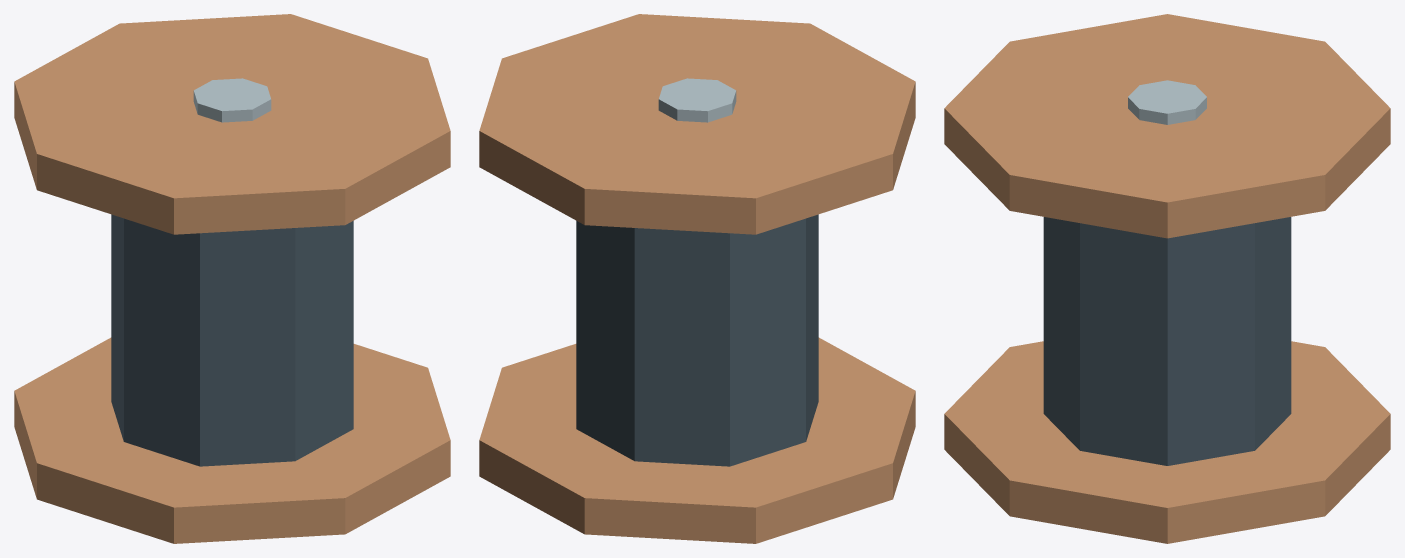
File: cable-shipping-reel.glb
3 views of the same model, side by side, from view 1: azimuth 30°, elevation 25°; view 2: azimuth 150°, elevation 25°; view 3: azimuth 270°, elevation 25° (orthographic).
Parts seen in each view (by area): view 1: copper, dark, steel; view 2: copper, dark, steel; view 3: copper, dark, steel.
Part boxes in pixels (<box>): copper: <box>14,14,450,543</box>; dark: <box>111,214,353,466</box>; steel: <box>193,78,271,122</box>; copper: <box>479,14,915,543</box>; dark: <box>576,214,818,466</box>; steel: <box>658,78,736,122</box>; copper: <box>944,14,1390,543</box>; dark: <box>1043,217,1291,465</box>; steel: <box>1128,80,1206,124</box>.
Size of the model in its own units: 0.9 by 0.785 by 0.9.
